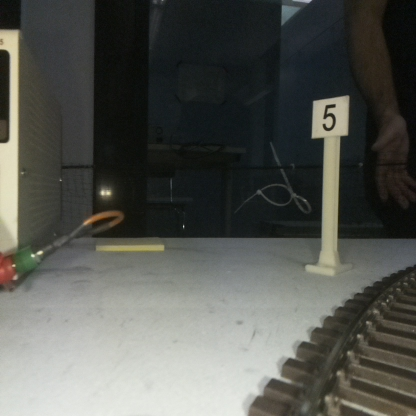white-info-5: (313, 97, 348, 271)
